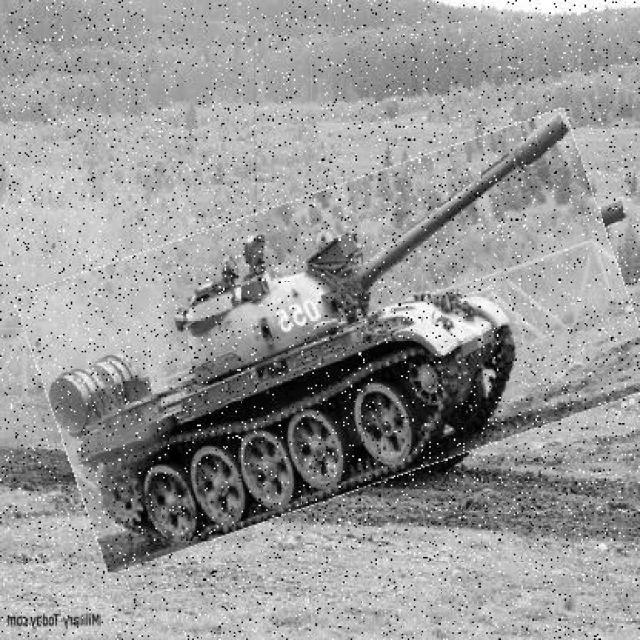Tank: (31, 152, 640, 535)
